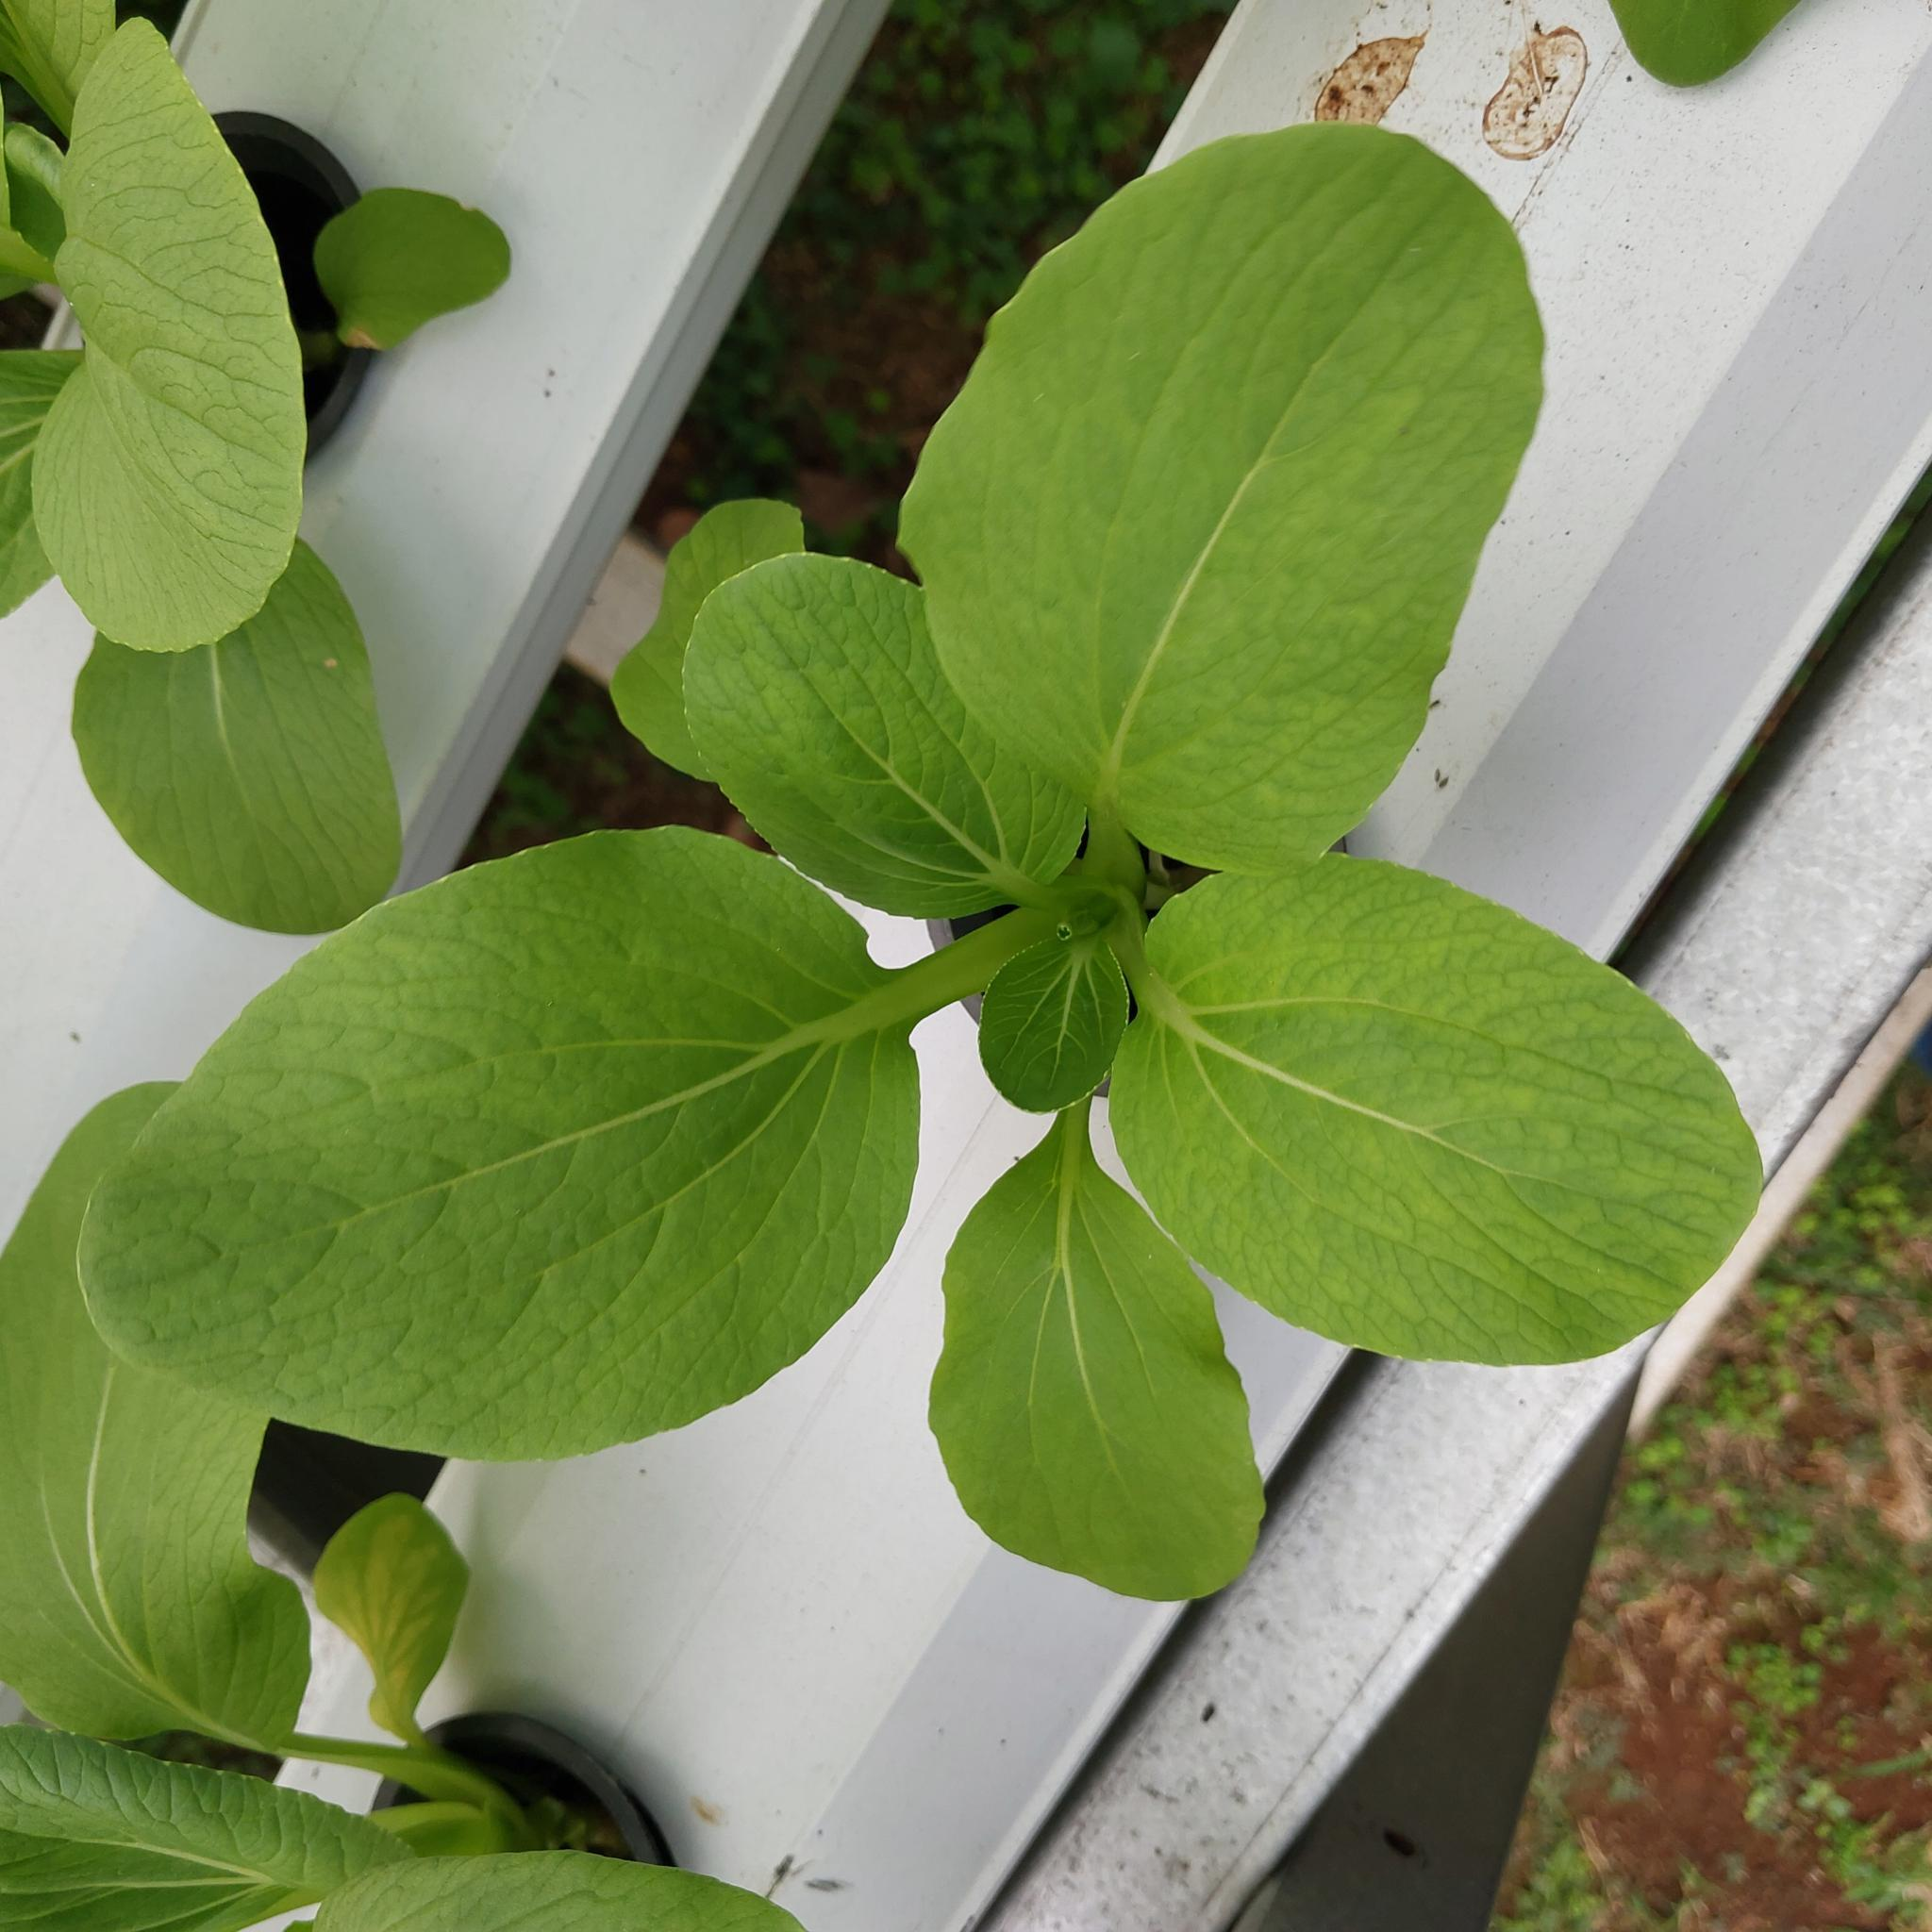Healthy-Pechay: (943, 117, 1534, 902), (1120, 870, 1773, 1357), (5, 1088, 352, 1771), (0, 1691, 796, 1928), (25, 14, 315, 653), (228, 835, 881, 1083), (952, 1097, 1242, 1608), (679, 550, 1033, 922), (73, 548, 400, 931), (372, 1021, 853, 1207), (600, 492, 816, 801), (80, 1352, 189, 1736), (464, 669, 660, 856), (308, 188, 513, 354), (2, 343, 83, 635)
